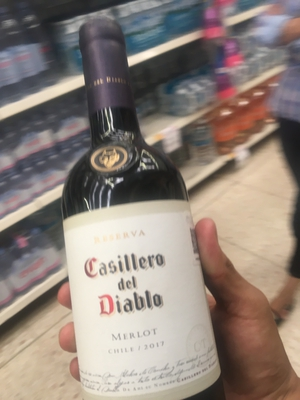casillero del diablo merlot: (48, 20, 221, 400)
